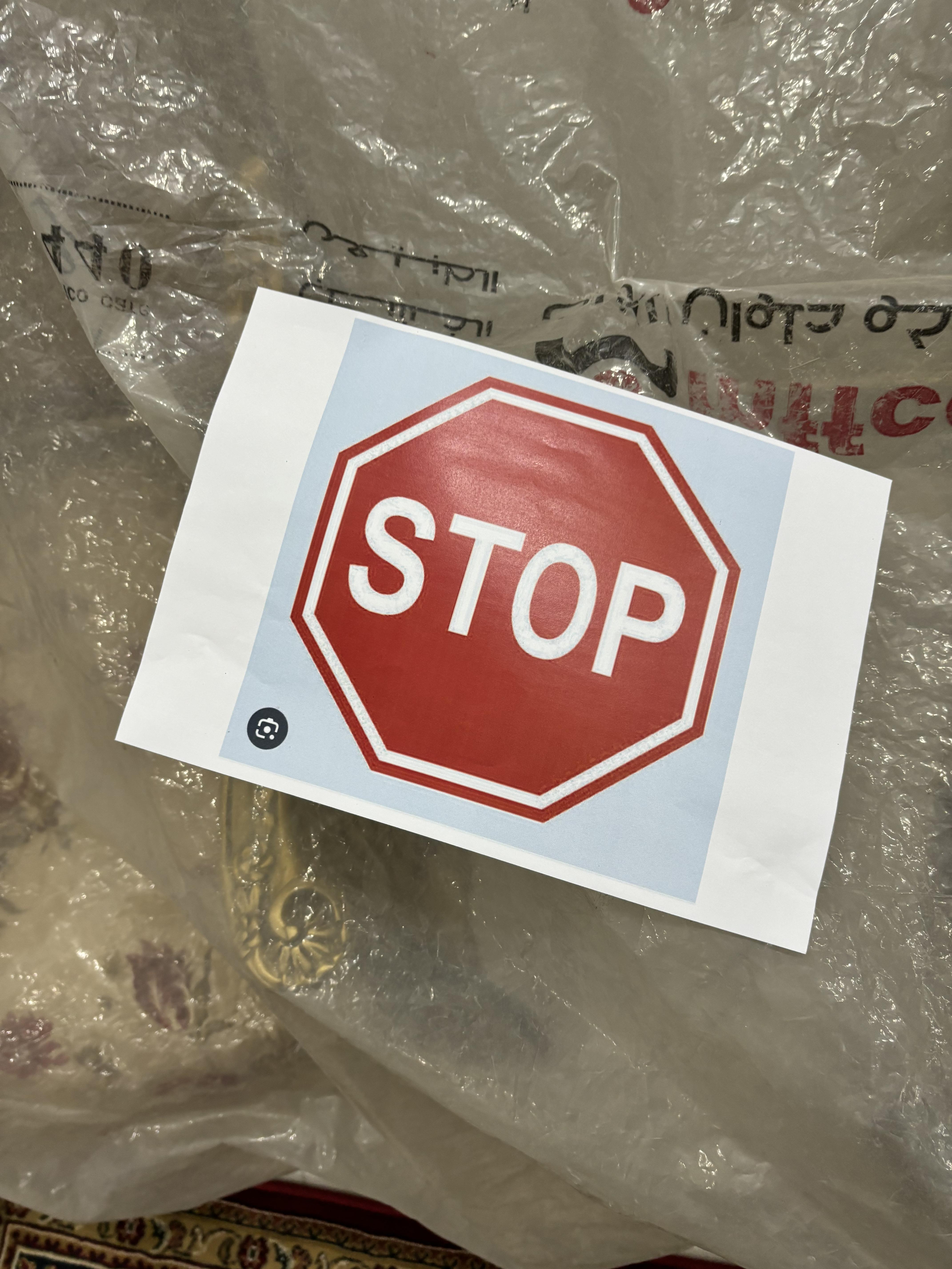Stop: (287, 367, 756, 824)
